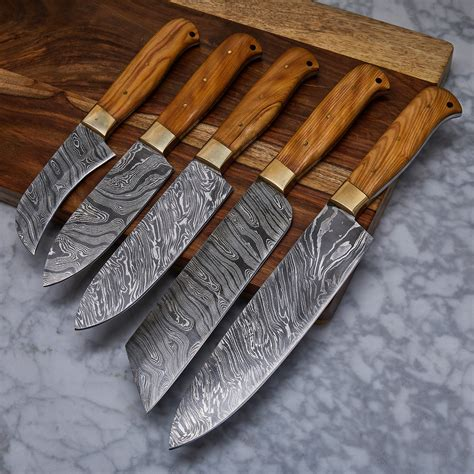knife: (168, 84, 464, 448), (124, 63, 393, 411), (78, 47, 319, 330), (44, 32, 260, 286), (14, 15, 199, 256)
